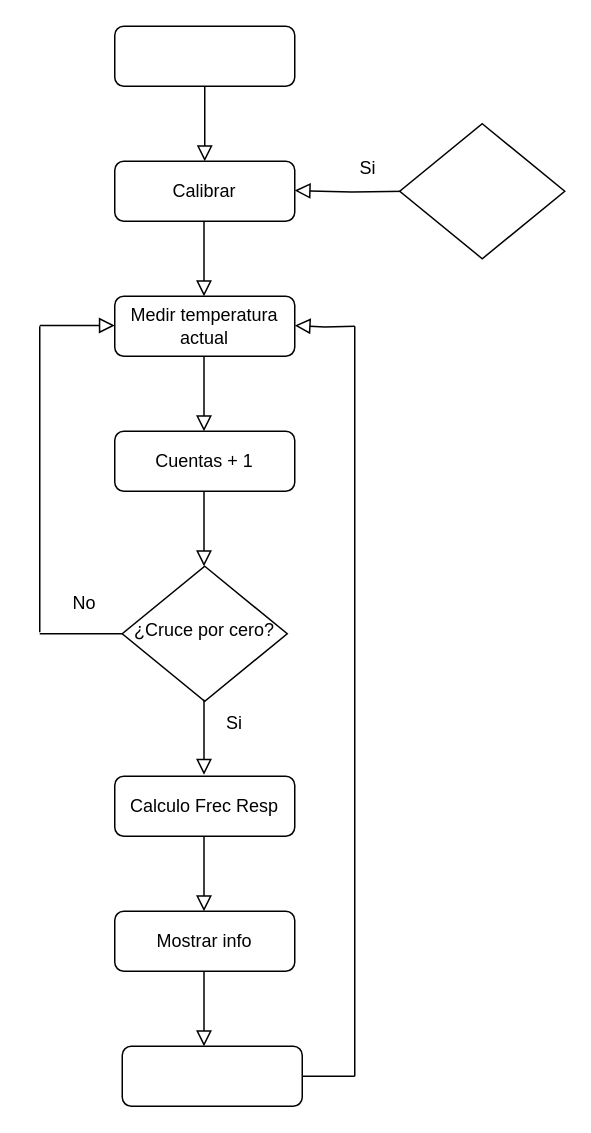
This 591x1133 diagram has some shape labels left out. The centre of each missing label's shape, as x and y in pixels:
"Cuentas = 0" goes at [211,1075].
"Inicio" goes at [204,55].
"¿SWITCH 1? (Interrupción)" goes at [481,190].
